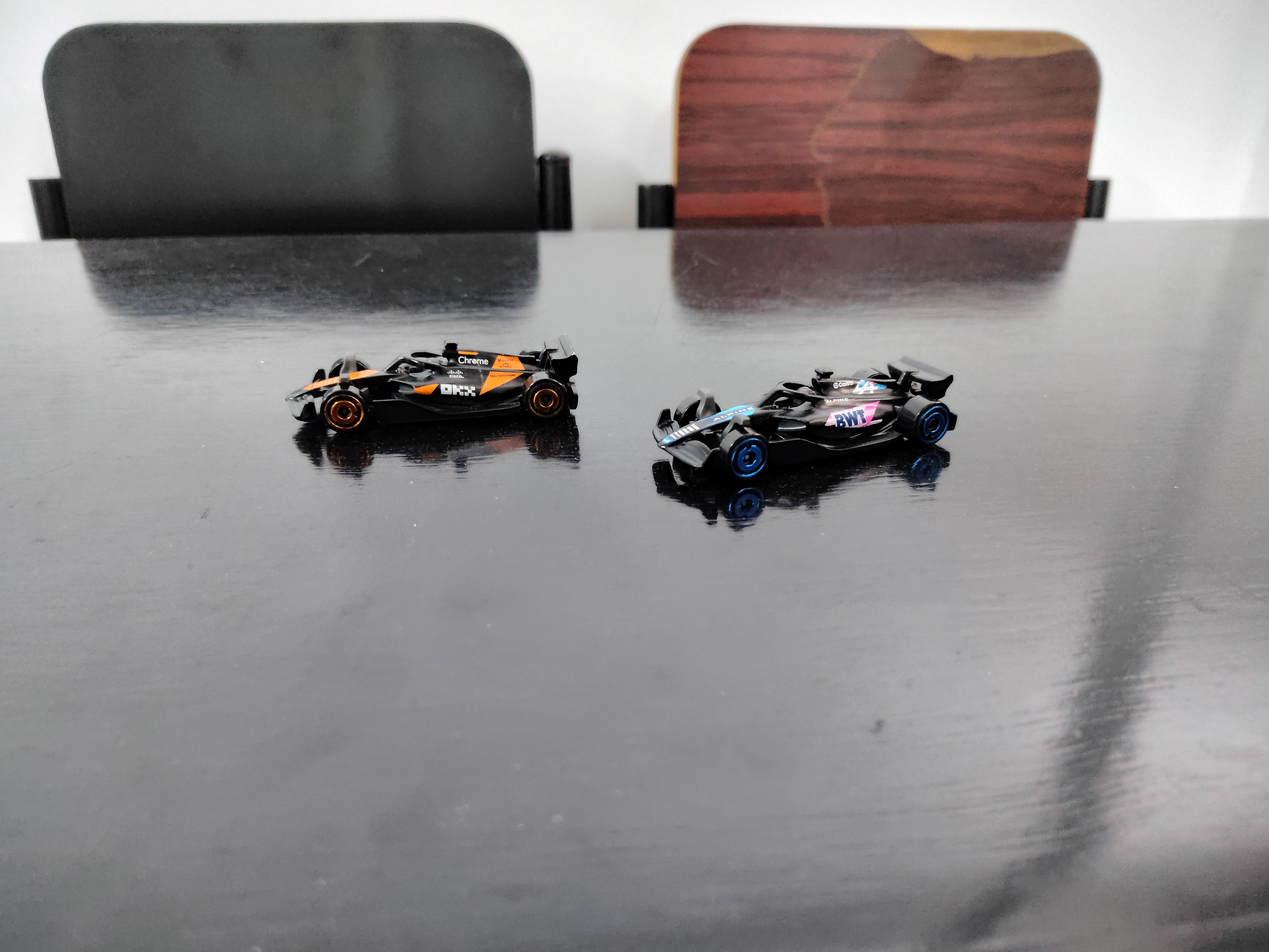Alpine A524: (623, 332, 1080, 556)
McLaren MCL40: (271, 296, 589, 471)
